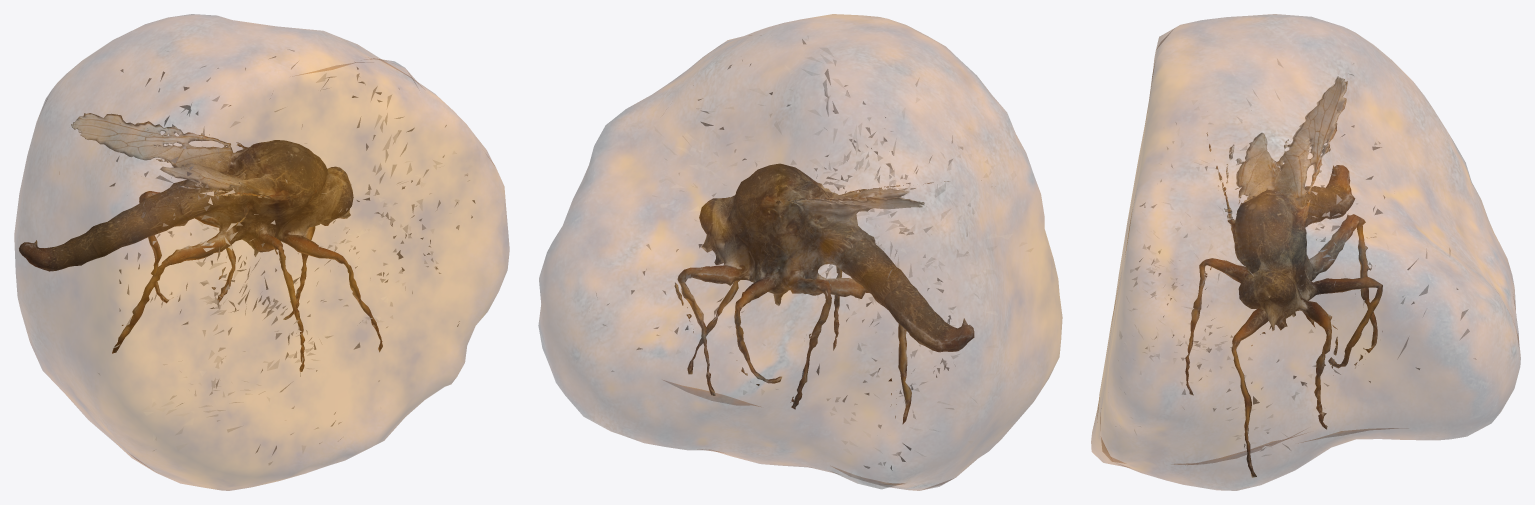
The model's file is MosquitoInAmber.glb.
3 renders of one model, left to right at view 1: azimuth 30°, elevation 25°; view 2: azimuth 150°, elevation 25°; view 3: azimuth 270°, elevation 25°, orthographic. The views are drawn at different scales.
Visible parts, largest first — view 1: 5_amber_lr, 2_mosquito_lr, 6_eclats; view 2: 5_amber_lr, 2_mosquito_lr, 6_eclats; view 3: 5_amber_lr, 2_mosquito_lr, 6_eclats.
Part boxes in pixels (<box>): 5_amber_lr: <box>14,14,509,490</box>; 2_mosquito_lr: <box>19,113,382,371</box>; 6_eclats: <box>98,49,475,465</box>; 5_amber_lr: <box>538,14,1062,490</box>; 2_mosquito_lr: <box>674,163,974,423</box>; 6_eclats: <box>596,35,1036,470</box>; 5_amber_lr: <box>1091,14,1520,490</box>; 2_mosquito_lr: <box>1185,76,1382,477</box>; 6_eclats: <box>1109,59,1476,456</box>.
Size of the model in its own units: 0.0972 by 0.0997 by 0.0879.
Materials: 3 (2 with a texture image).
